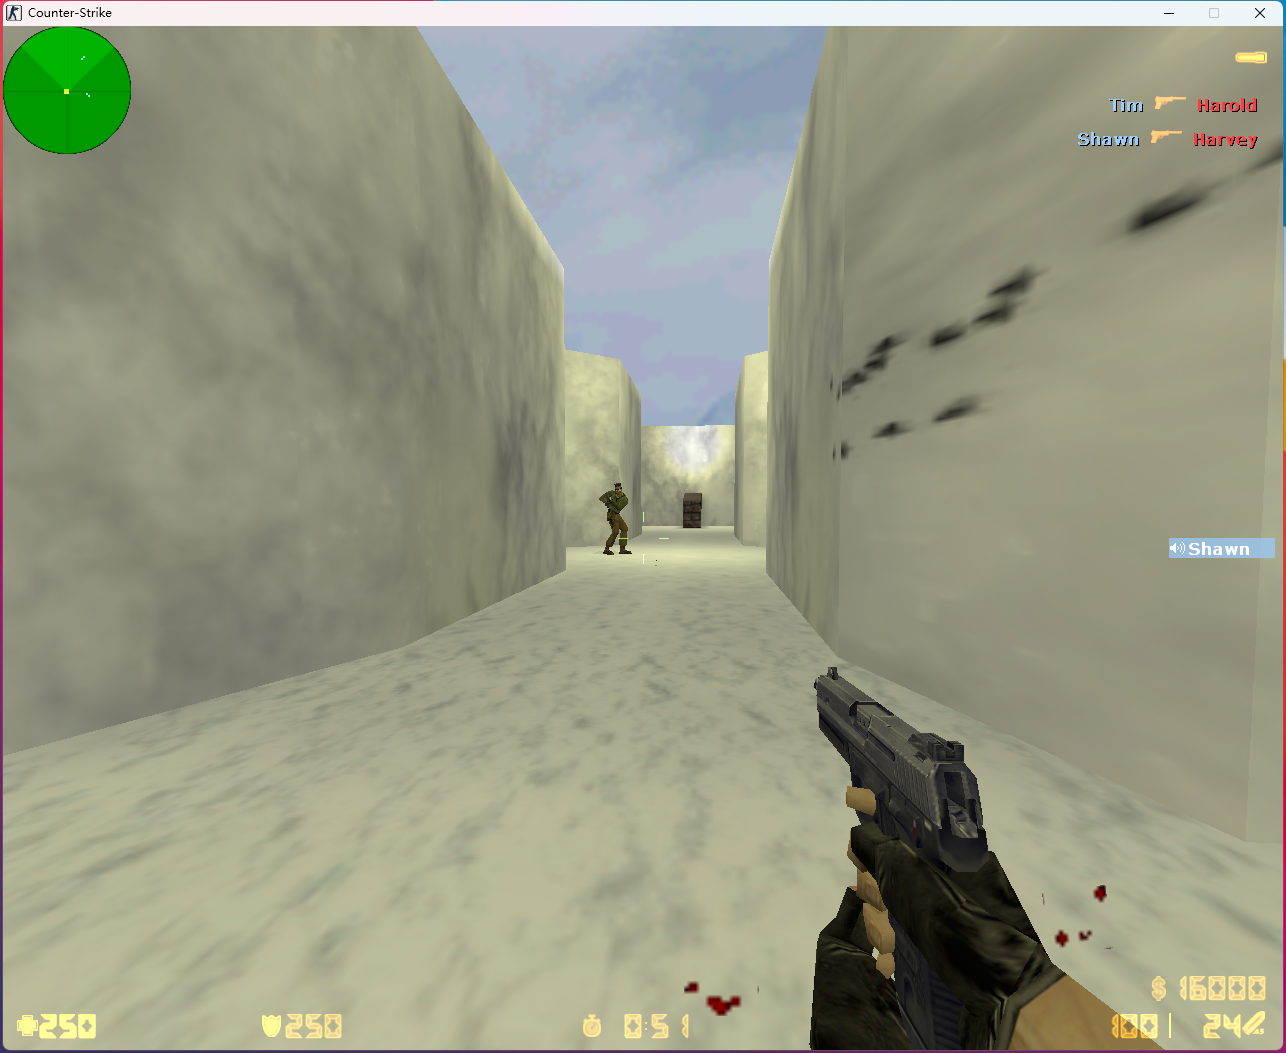T: (599, 485, 634, 556)
